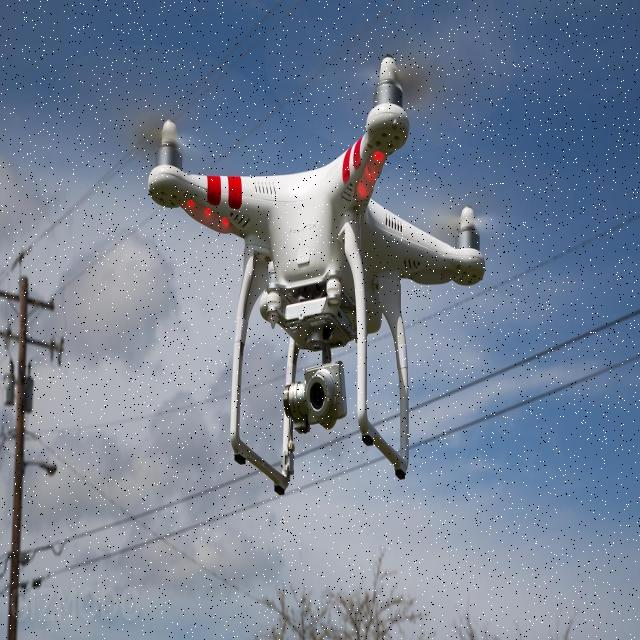UAV: (146, 46, 488, 496)
